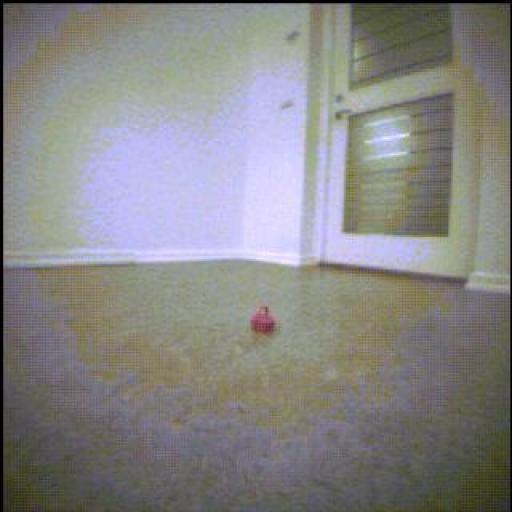Bucket: (252, 307, 276, 334)
